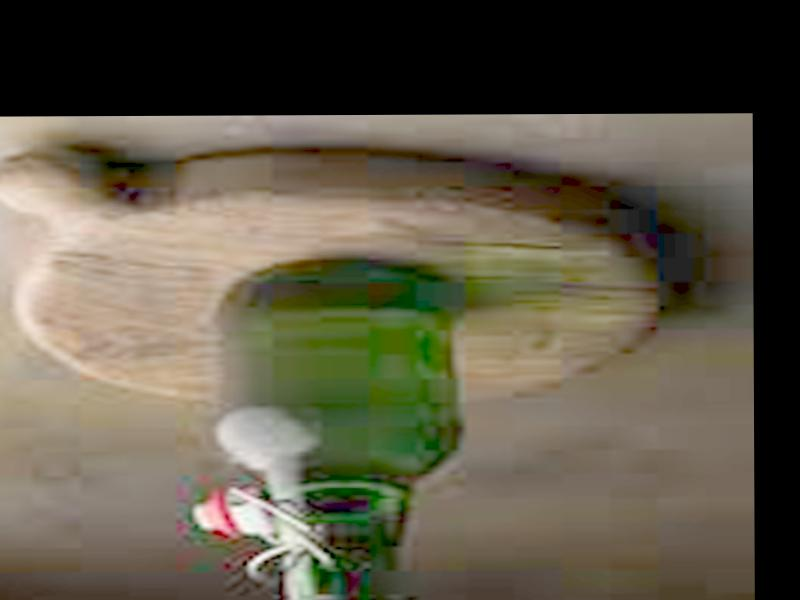Beer: (217, 267, 453, 600)
